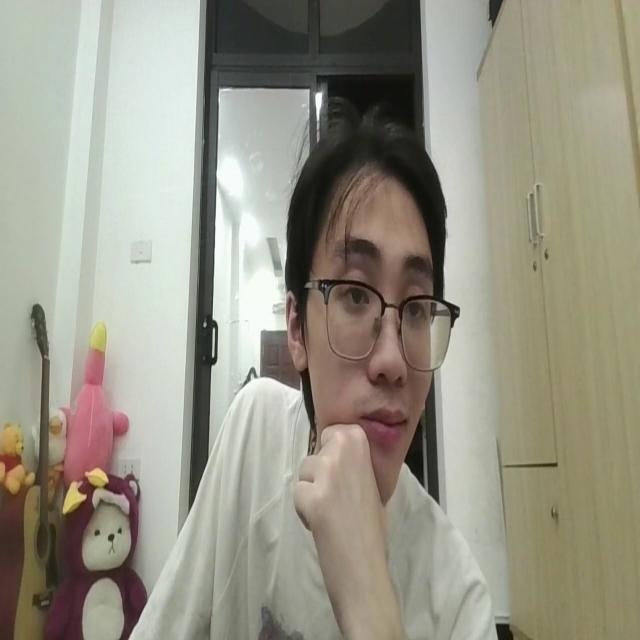student: (124, 98, 492, 640)
